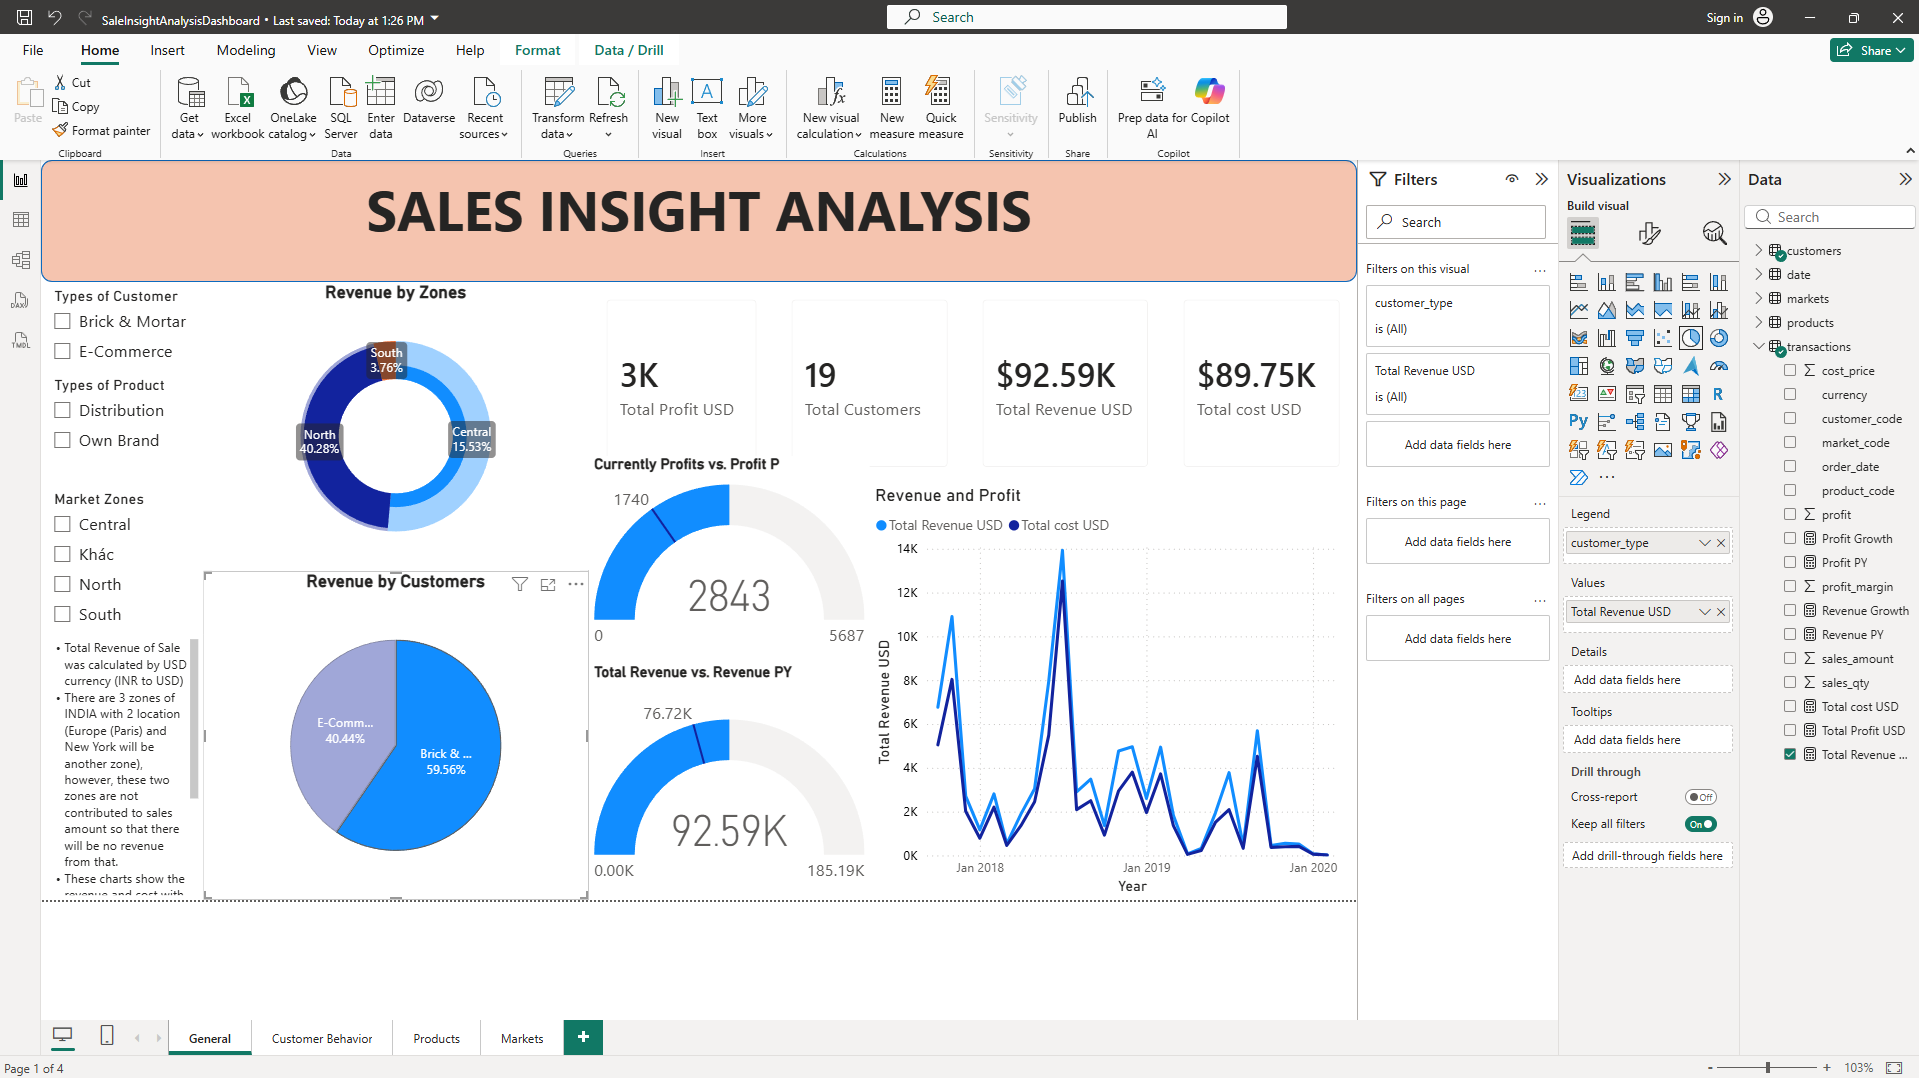

This screenshot's page, from the dashboard's own definition file:
{"tool":"powerbi","page":{"name":"General","canvas":[1280,720],"ordinal":0},"visuals":[{"type":"lineChart","title":"Revenue and Profit","fields":{"Y2":["transactions.Total cost USD"],"Y":["transactions.Total Revenue USD"],"Category":["date.date.Variation.Date Hierarchy.Year","date.date.Variation.Date Hierarchy.Month"]},"box":[806,316,474,404],"z":0},{"type":"shape","box":[0,0,1280,118.7],"z":1000},{"type":"textbox","box":[0,5.8,1280,106],"z":2000},{"type":"pieChart","title":"Revenue by Customers","fields":{"Y":["transactions.Total Revenue USD"],"Category":["customers.customer_type"]},"box":[158,400,375,320],"z":3000},{"type":"donutChart","title":"Revenue by Zones","fields":{"Category":["markets.Normalized_Zone"],"Y":["transactions.Total Revenue USD"]},"box":[158,119,375,281],"z":4000},{"type":"cardVisual","fields":{"Data":["transactions.Total cost USD"]},"box":[1094,119,186,197],"z":5000},{"type":"cardVisual","fields":{"Data":["transactions.Total Revenue USD"]},"box":[899,119,195,197],"z":6000},{"type":"cardVisual","fields":{"Data":["customers.Total Customers"]},"box":[713,119,186,197],"z":7000},{"type":"slicer","fields":{"Values":["customers.customer_type"]},"box":[0,119,158,99],"z":8000},{"type":"slicer","fields":{"Values":["markets.Normalized_Zone"]},"box":[0,316,158,145],"z":9000},{"type":"slicer","fields":{"Values":["products.product_type"]},"box":[0,205,158,111],"z":10000},{"type":"textbox","box":[0,461,158,259],"z":11000},{"type":"cardVisual","fields":{"Data":["transactions.Total Profit USD"]},"box":[533,119,180,197],"z":12000},{"type":"gauge","title":"Total Revenue vs. Revenue PY","fields":{"Y":["transactions.Total Revenue USD"],"TargetValue":["transactions.Revenue PY"]},"box":[533,490,273,230],"z":13000},{"type":"gauge","title":"Total Profit vs. Profit PY","fields":{"TargetValue":["transactions.Profit PY"],"Y":["transactions.Total Profit USD"]},"box":[533,288,273,202],"z":14000}]}

Visuals, with their boxes on the page's 1280x720 design canvas (x1, y1, x2, y2). These are canvas units, not pixel positions in the 1919x1078 screenshot, which may show the page scaled, cropped or inside an application window:
"Revenue and Profit" lineChart: left=806, top=316, right=1280, bottom=720
shape: left=0, top=0, right=1280, bottom=119
textbox: left=0, top=6, right=1280, bottom=112
"Revenue by Customers" pieChart: left=158, top=400, right=533, bottom=720
"Revenue by Zones" donutChart: left=158, top=119, right=533, bottom=400
cardVisual - transactions.Total cost USD: left=1094, top=119, right=1280, bottom=316
cardVisual - transactions.Total Revenue USD: left=899, top=119, right=1094, bottom=316
cardVisual - customers.Total Customers: left=713, top=119, right=899, bottom=316
slicer - customers.customer_type: left=0, top=119, right=158, bottom=218
slicer - markets.Normalized_Zone: left=0, top=316, right=158, bottom=461
slicer - products.product_type: left=0, top=205, right=158, bottom=316
textbox: left=0, top=461, right=158, bottom=720
cardVisual - transactions.Total Profit USD: left=533, top=119, right=713, bottom=316
"Total Revenue vs. Revenue PY" gauge: left=533, top=490, right=806, bottom=720
"Total Profit vs. Profit PY" gauge: left=533, top=288, right=806, bottom=490
